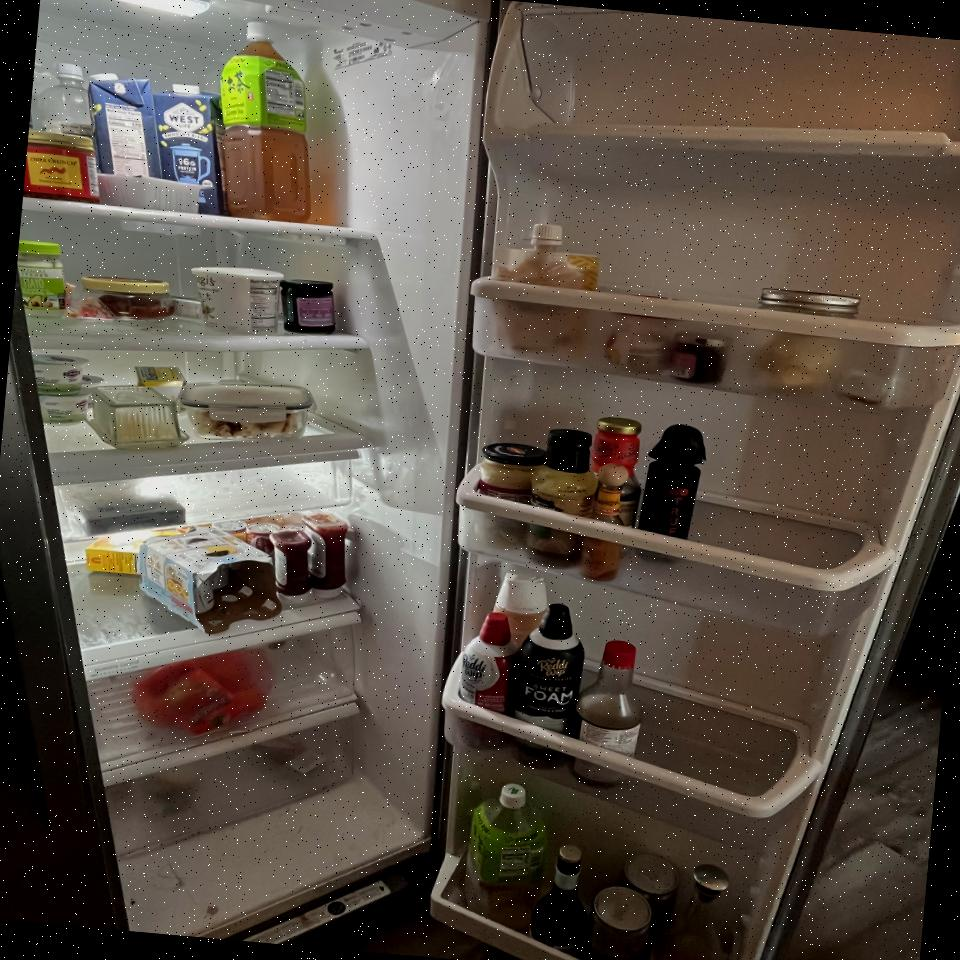Leche: (142, 82, 241, 218), (79, 71, 171, 178)
Mantequilla: (133, 364, 188, 392)
Yogur: (184, 264, 284, 338), (34, 382, 92, 430), (28, 353, 89, 398), (77, 374, 104, 412)
